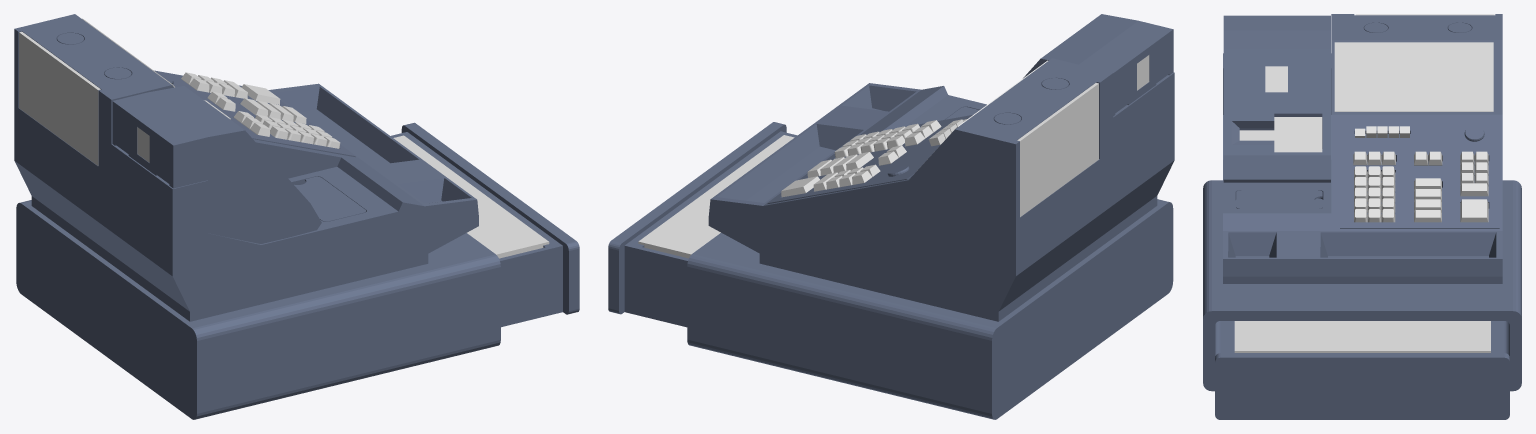
File: cashregister.fbx
The picture shows the model from 3 angles, left to right: view 1: azimuth 30°, elevation 25°; view 2: azimuth 150°, elevation 25°; view 3: azimuth 270°, elevation 25°; orthographic projection. The views are drawn at different scales.
Parts seen in each view (by area): view 1: tillbody, base, receiptprinter, drawer, cointray, Circle.001, operationbuttons, calcbuttons, custombuttons; view 2: tillbody, base, drawer, receiptprinter, cointray, operationbuttons, calcbuttons, custombuttons; view 3: tillbody, drawer, base, receiptprinter, cointray, calcbuttons, operationbuttons, Circle.001, custombuttons, modebuttons, receiptbuttons, percentbuttons.
Boxes of the visible parts, box(x1,y1,x2,y2) form: tillbody: box(14, 14, 478, 321); base: box(16, 200, 500, 419); receiptprinter: box(112, 86, 321, 243); drawer: box(391, 122, 579, 327); cointray: box(393, 135, 549, 258); Circle.001: box(294, 176, 365, 221); operationbuttons: box(181, 72, 280, 104); calcbuttons: box(255, 114, 340, 148); custombuttons: box(240, 98, 306, 123); tillbody: box(708, 58, 1174, 321); base: box(687, 199, 1173, 419); drawer: box(608, 122, 797, 327); receiptprinter: box(1023, 14, 1173, 115); cointray: box(638, 135, 794, 258); operationbuttons: box(781, 164, 880, 197); calcbuttons: box(834, 123, 920, 158); custombuttons: box(807, 152, 873, 177); tillbody: box(1223, 14, 1502, 283); drawer: box(1215, 321, 1509, 419); base: box(1203, 180, 1521, 391); receiptprinter: box(1223, 15, 1330, 182); cointray: box(1234, 321, 1490, 352); calcbuttons: box(1354, 166, 1395, 222); operationbuttons: box(1460, 151, 1488, 222); Circle.001: box(1236, 190, 1322, 208); custombuttons: box(1414, 178, 1441, 222); modebuttons: box(1355, 126, 1409, 137); receiptbuttons: box(1353, 151, 1395, 165); percentbuttons: box(1414, 151, 1442, 165).
Size of the model in its own units: 331 by 215 by 258.
